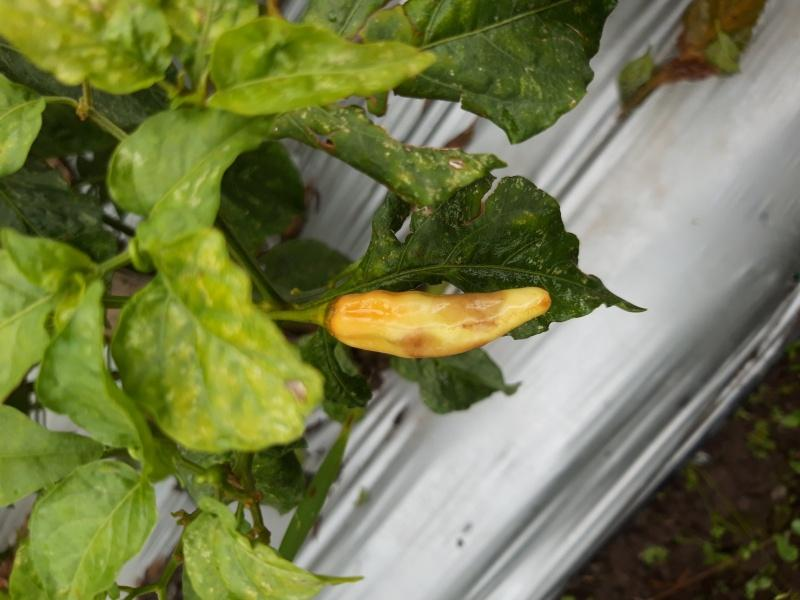antraknosa: (334, 286, 550, 361)
